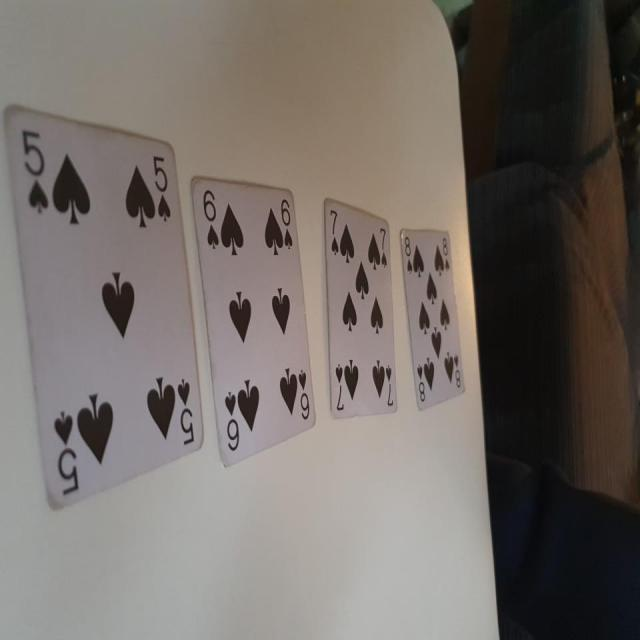5 Spades: (1, 105, 206, 518)
6 Spades: (190, 170, 316, 472)
7 Spades: (320, 190, 402, 430)
8 Spades: (394, 225, 466, 416)
